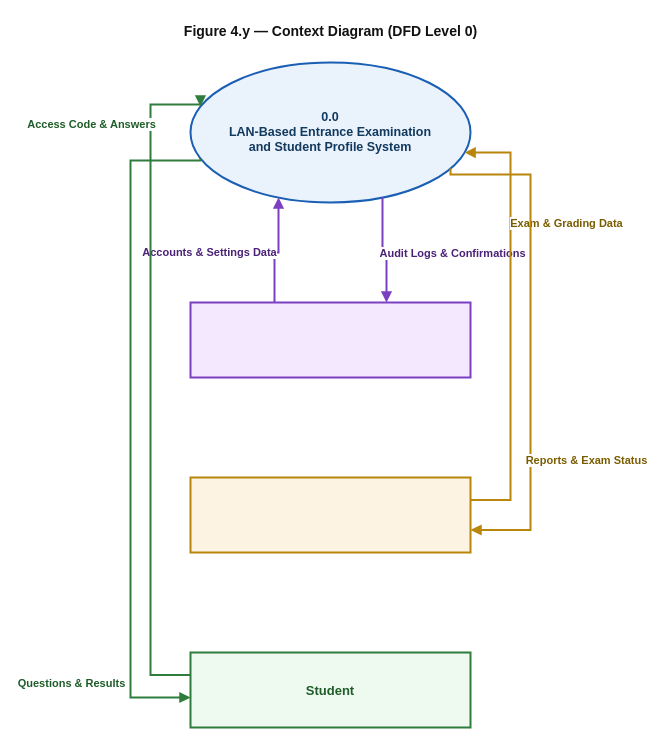
This 664x745 diagram has some shape labels left out. Each missing label, with the box of its shape:
Guidance Counselor: (189, 476, 471, 553)
Super Administrator: (189, 301, 471, 378)
